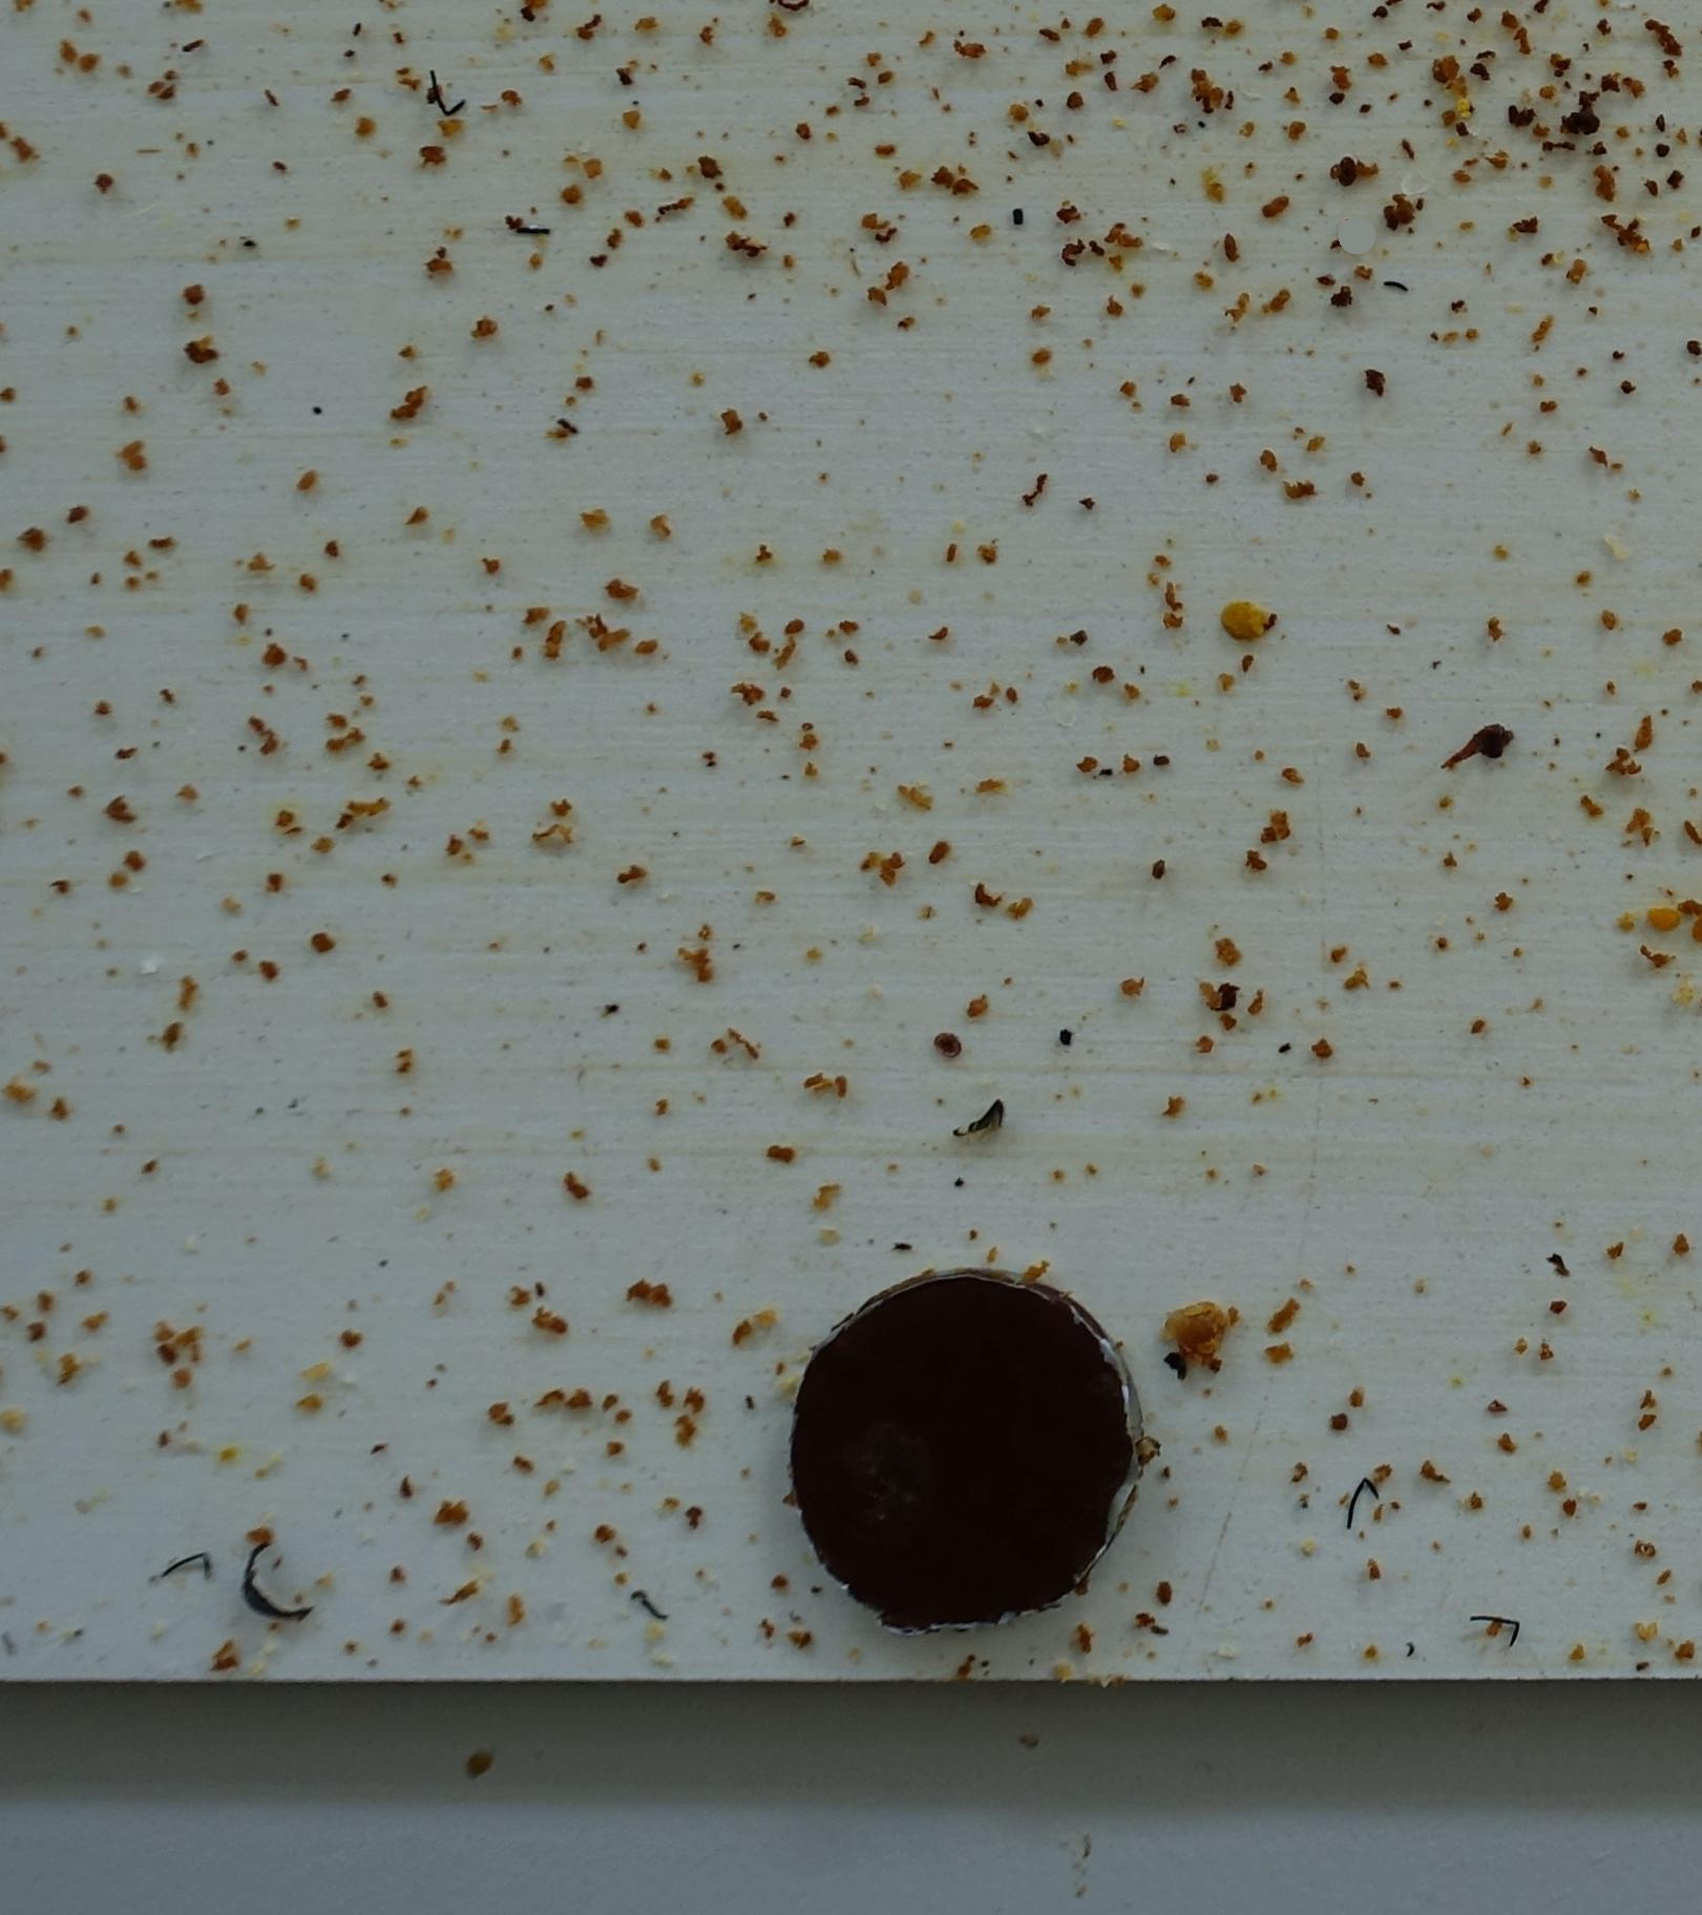Varroa: (1321, 154, 1352, 186), (1572, 117, 1602, 146), (933, 1035, 959, 1063)
